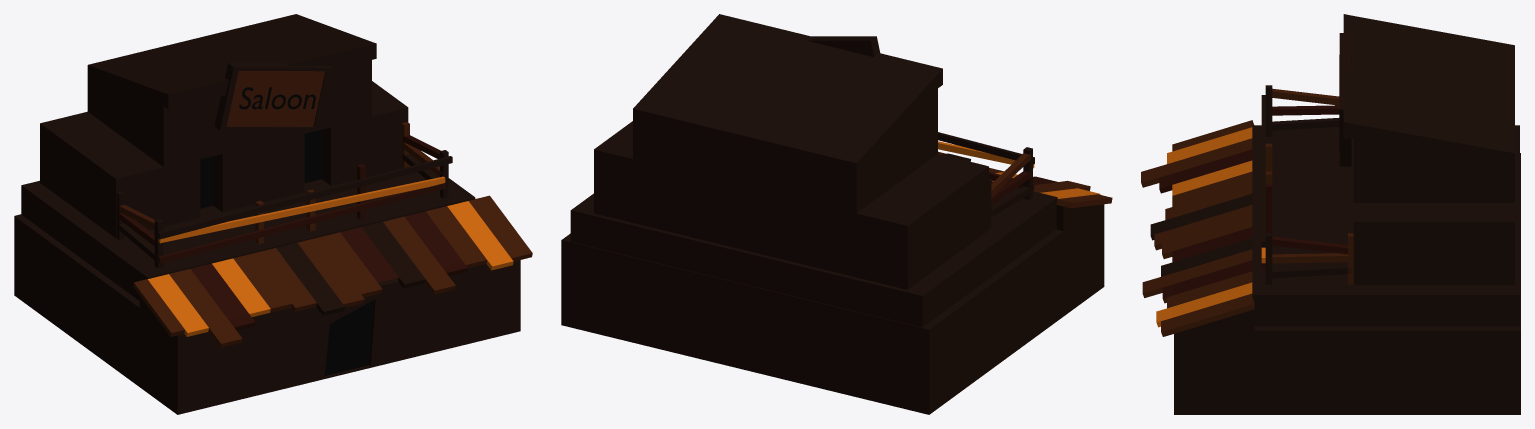
The model's file is Saloon.obj.
The picture shows the model from 3 angles, left to right: view 1: azimuth 30°, elevation 25°; view 2: azimuth 150°, elevation 25°; view 3: azimuth 270°, elevation 25°; orthographic projection. The views are drawn at different scales.
Parts seen in each view (by area): view 1: Text_Saloon; view 2: Text_Saloon; view 3: Text_Saloon.
Boxes of the visible parts, box(x1,y1,x2,y2) form: Text_Saloon: box(14, 14, 532, 414); Text_Saloon: box(561, 14, 1112, 414); Text_Saloon: box(1141, 14, 1520, 414).
Size of the model in its own units: 12.03 by 8.33 by 10.46.
